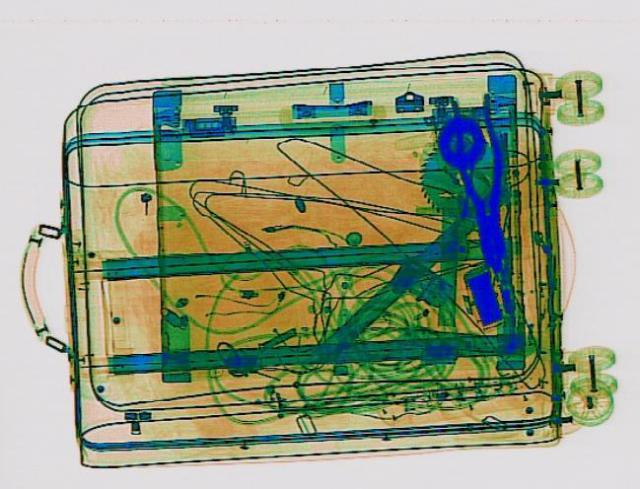Pliers: (444, 91, 520, 270)
